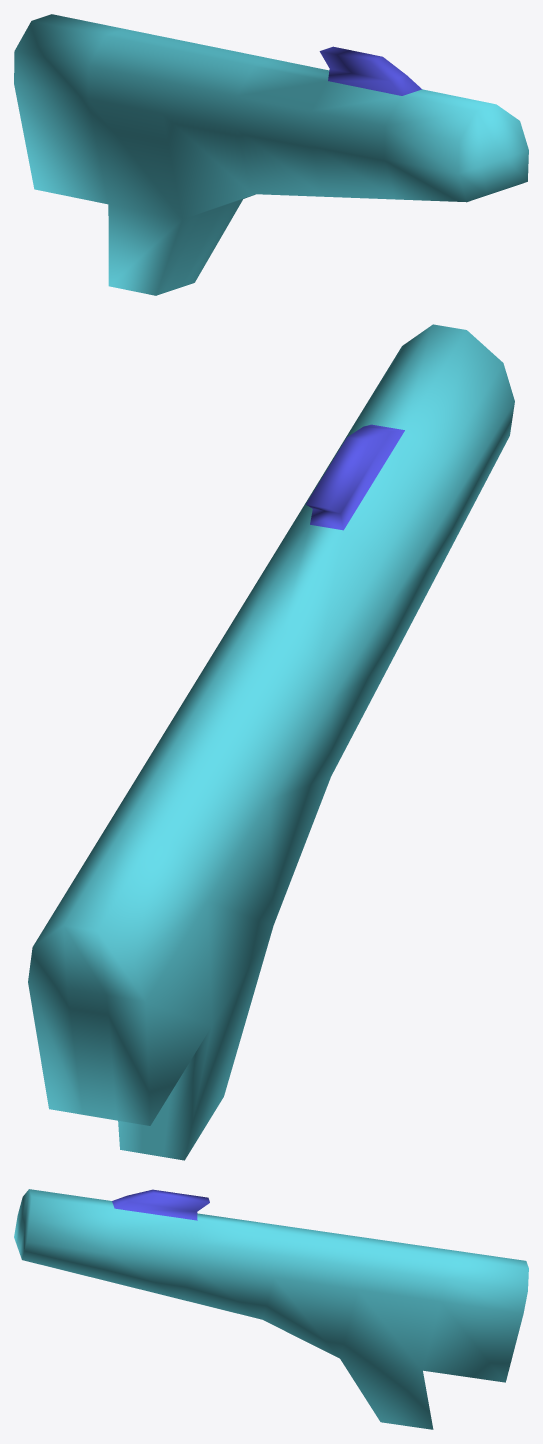
File: shooter.gltf
The picture shows the model from 3 angles, top to bottom: view 1: azimuth 30°, elevation 25°; view 2: azimuth 150°, elevation 25°; view 3: azimuth 270°, elevation 25°; orthographic projection. The views are drawn at different scales.
Parts seen in each view (by area): view 1: Cube; view 2: Cube; view 3: Cube.
Boxes of the visible parts, box(x1,y1,x2,y2) form: Cube: box(14, 14, 528, 295); Cube: box(28, 324, 514, 1160); Cube: box(14, 1189, 528, 1429).
Size of the model in its own units: 0.1849 by 0.3813 by 0.6982.
